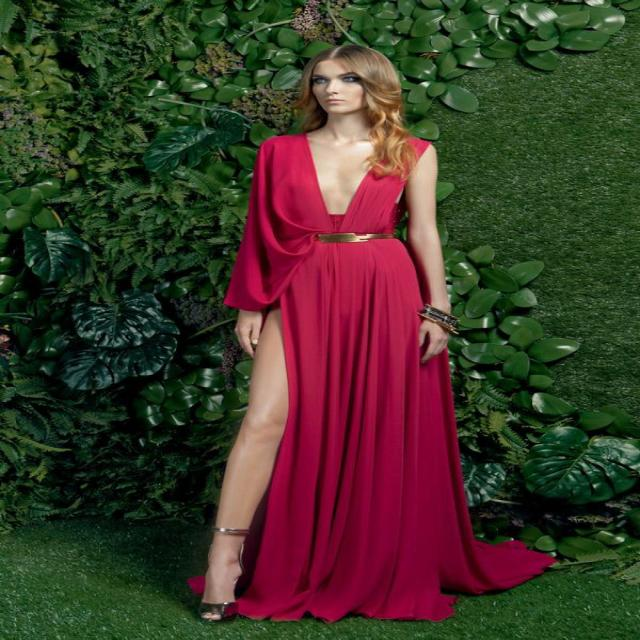female-dress: (239, 122, 504, 612)
